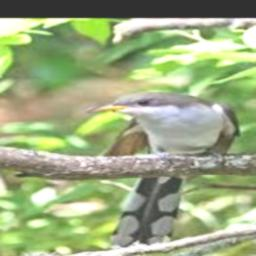Cuckoo: (87, 90, 238, 246)
